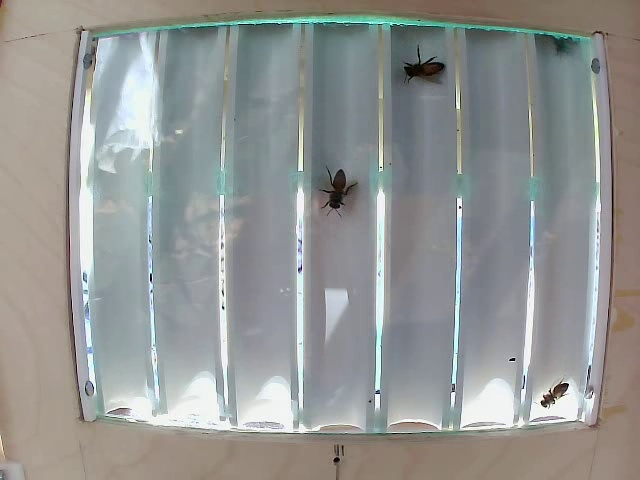bee: (312, 151, 357, 217), (401, 43, 444, 89)
